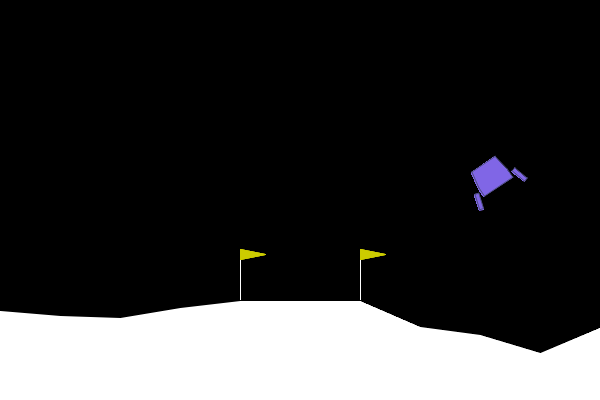lander: (457, 146, 529, 213)
